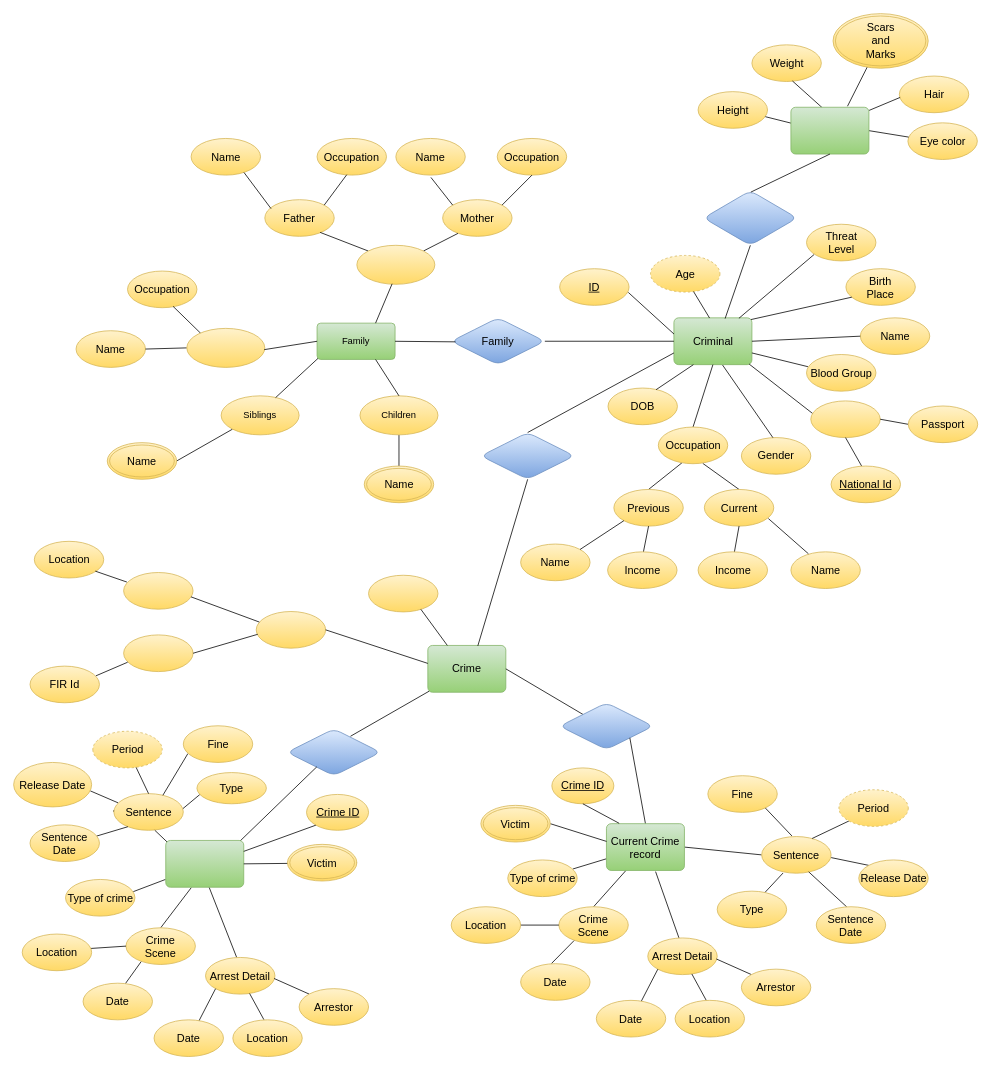
Some shapes in this 991 by 1070 pixel diagram are drawn without their labels. The shapes that lost their labels are listed below. From the top down, each one's centre as x and y in pixels, then its label:
At (x=829, y=130): "Physical Appearance".
At (x=750, y=217): "Looks Like".
At (x=395, y=264): "Parents".
At (x=225, y=347): "Consort".
At (x=845, y=419): "Nationality".
At (x=527, y=455): "Commits".
At (x=158, y=590): "Prison".
At (x=403, y=593): "Arms Posession".
At (x=290, y=629): "Jail".
At (x=158, y=653): "Police Staion".
At (x=606, y=726): "Current Crime".
At (x=333, y=752): "Previous Crime".
At (x=204, y=863): "Previous Crime record".
